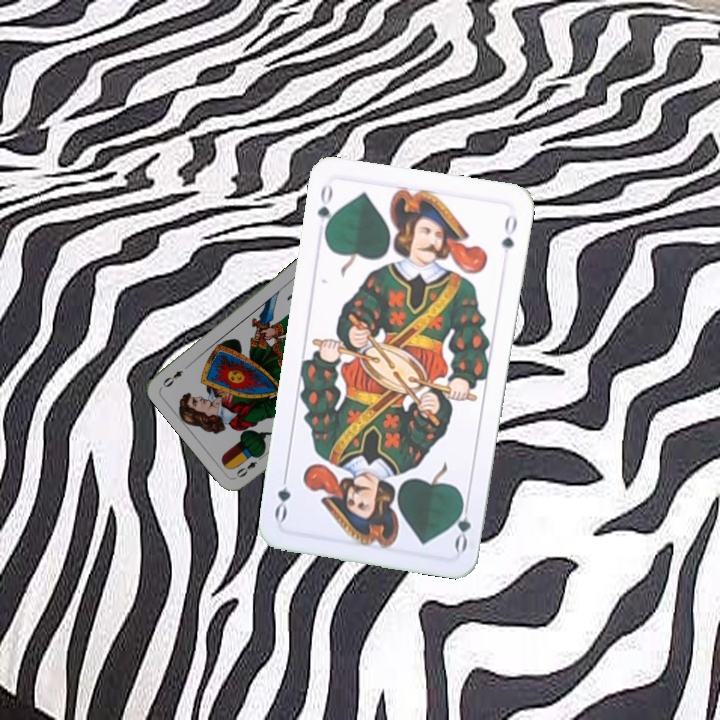EO: (232, 450, 267, 480)
GO: (313, 180, 338, 240), (450, 493, 474, 554)
